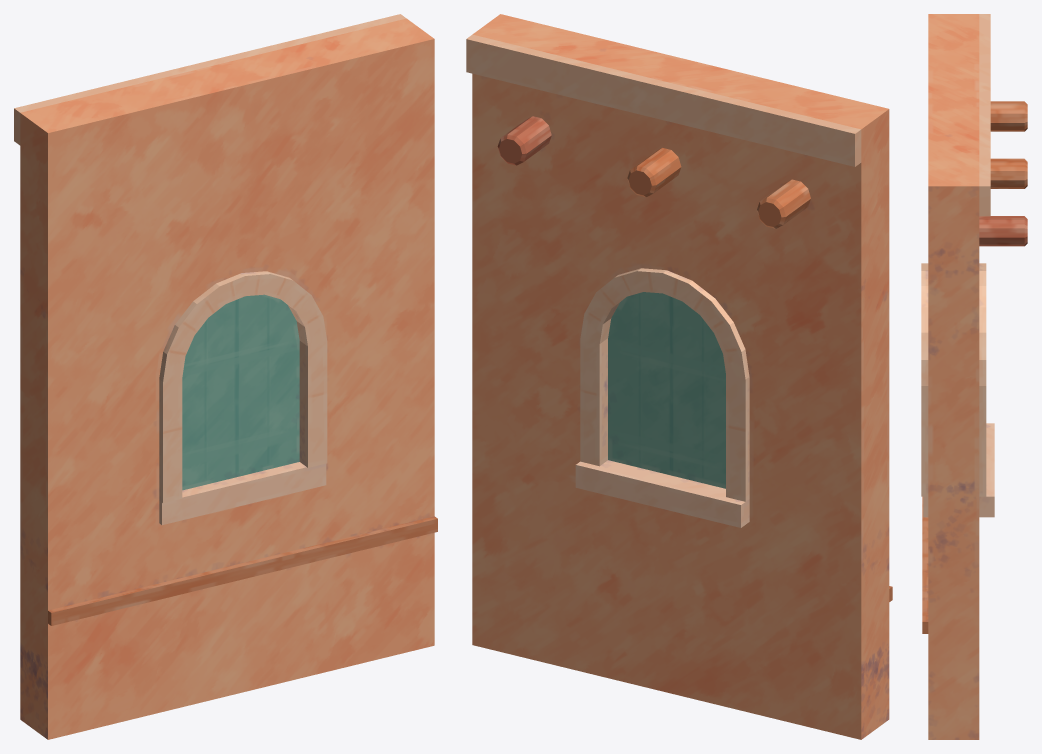
File: wall2_upper_shutter.fbx
3 renders of one model, left to right at view 1: azimuth 30°, elevation 25°; view 2: azimuth 150°, elevation 25°; view 3: azimuth 270°, elevation 25°, orthographic. The views are drawn at different scales.
Visible parts, largest first — view 1: wall2_upper_shutter; view 2: wall2_upper_shutter; view 3: wall2_upper_shutter.
Part boxes in pixels (left/top/right/bottom): wall2_upper_shutter: left=14, top=14, right=437, bottom=739; wall2_upper_shutter: left=466, top=14, right=892, bottom=739; wall2_upper_shutter: left=921, top=14, right=1027, bottom=739.
Size of the model in its own units: 8 by 12 by 2.09.
1 material, 1 textured.
